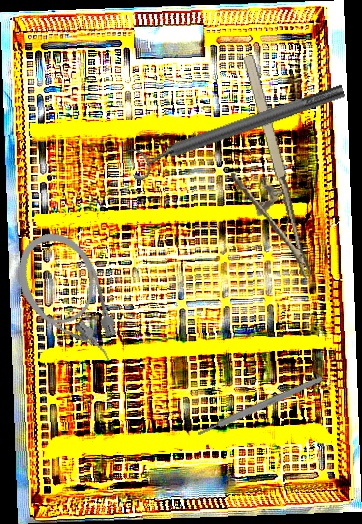Cannula: (3, 221, 134, 382)
Fixation Ring: (124, 75, 350, 183)
Needle Holder: (205, 53, 313, 290)
Scalpel Handle: (196, 374, 324, 438)
